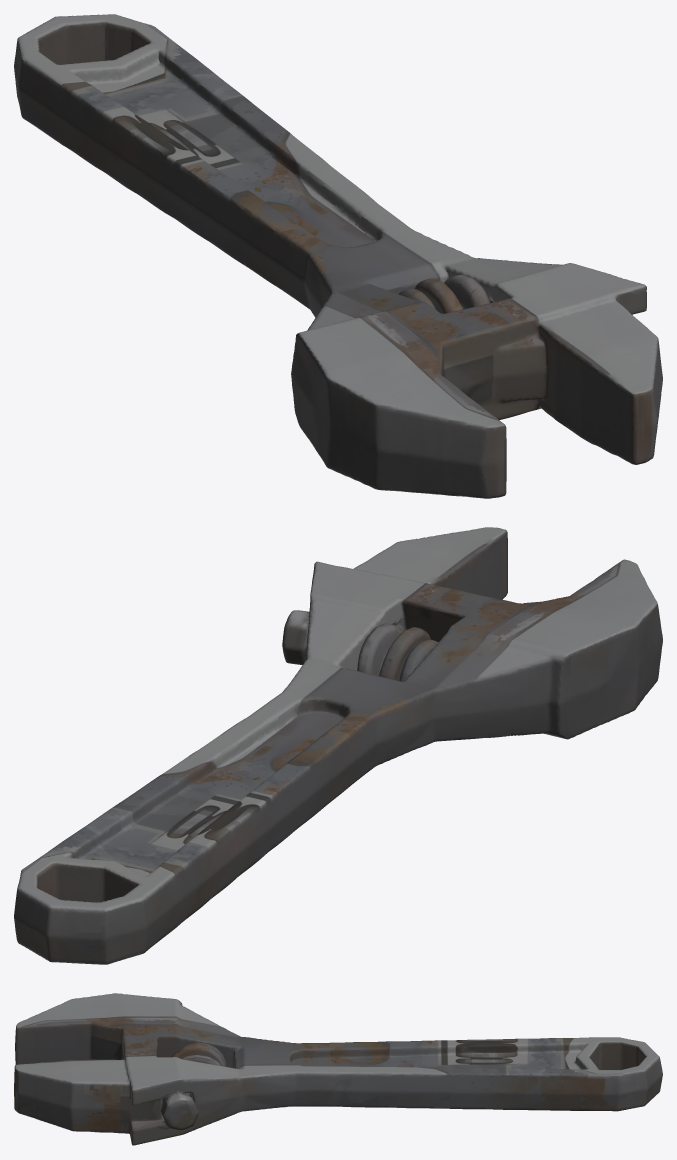
Rendered from chave_inglesa.glb.
The picture shows the model from 3 angles, top to bottom: view 1: azimuth 30°, elevation 25°; view 2: azimuth 150°, elevation 25°; view 3: azimuth 270°, elevation 25°; orthographic projection. The views are drawn at different scales.
Visible parts, largest first — view 1: tripo_node_2d45dae1-acfb-4714-90e1-8e8c718e7247; view 2: tripo_node_2d45dae1-acfb-4714-90e1-8e8c718e7247; view 3: tripo_node_2d45dae1-acfb-4714-90e1-8e8c718e7247.
Part boxes in pixels (x1,y1,x2,y2): tripo_node_2d45dae1-acfb-4714-90e1-8e8c718e7247: (14,14,662,498); tripo_node_2d45dae1-acfb-4714-90e1-8e8c718e7247: (14,527,662,964); tripo_node_2d45dae1-acfb-4714-90e1-8e8c718e7247: (14,993,662,1145).
Size of the model in its own units: 0.3562 by 0.1003 by 1.
1 material, 1 textured.
